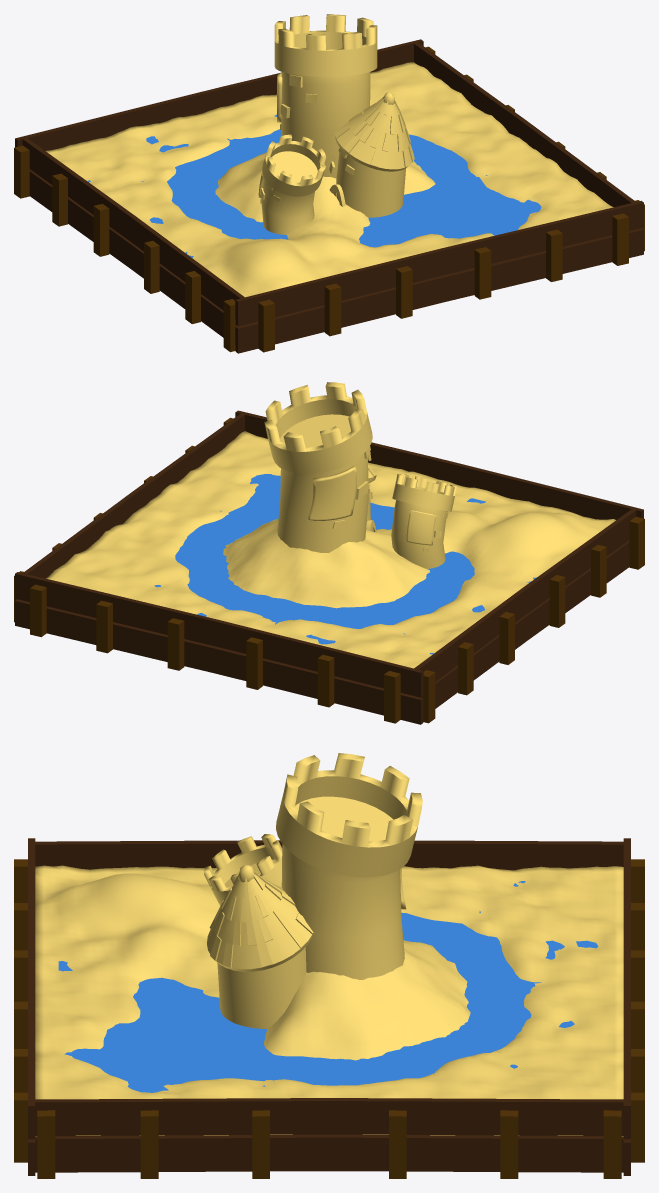
The model's file is SM_Sandkasten.fbx.
3 views of the same model, one above another, from view 1: azimuth 30°, elevation 25°; view 2: azimuth 150°, elevation 25°; view 3: azimuth 270°, elevation 25° (orthographic). The views are drawn at different scales.
Visible parts, largest first — view 1: Sandkasten.001; view 2: Sandkasten.001; view 3: Sandkasten.001.
Boxes of the visible parts, x1,y1,x2,y2 form: Sandkasten.001: (14, 14, 644, 353); Sandkasten.001: (14, 382, 644, 724); Sandkasten.001: (14, 753, 644, 1178).
Size of the model in its own units: 319 by 146 by 311.
